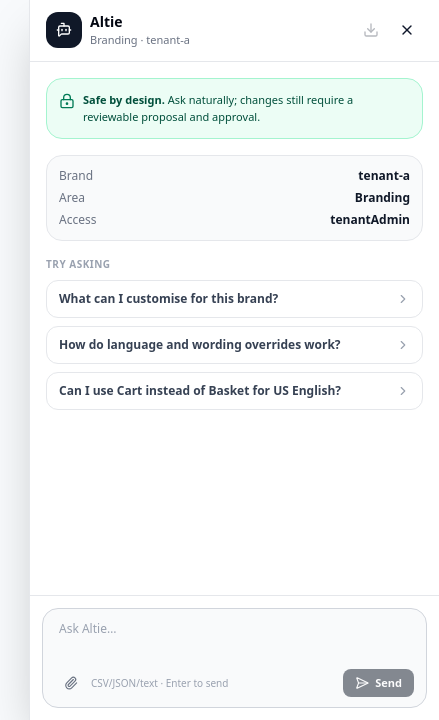
Test: AdminAssistantDrawer trusted proposal flow › rejects a ChangeSet response for a different tenant
This screenshot has width=439, height=720.
Click the button "What can I customise for this brand?" at (234,299), box [46, 280, 423, 318]
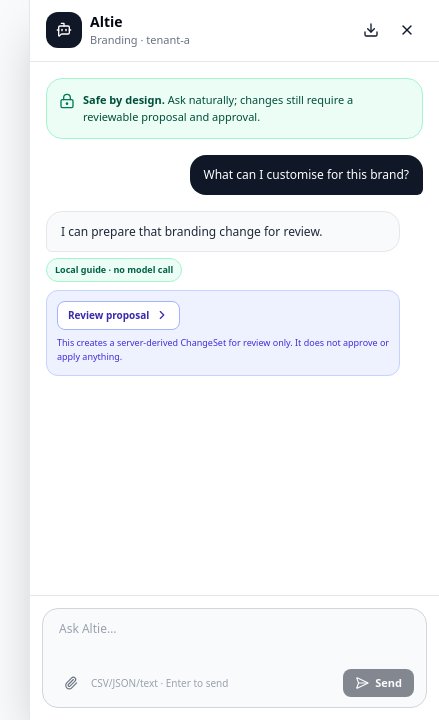
Result: the button "Review proposal" is shown
Click the button "Review proposal" at (119,315), box [57, 301, 180, 330]
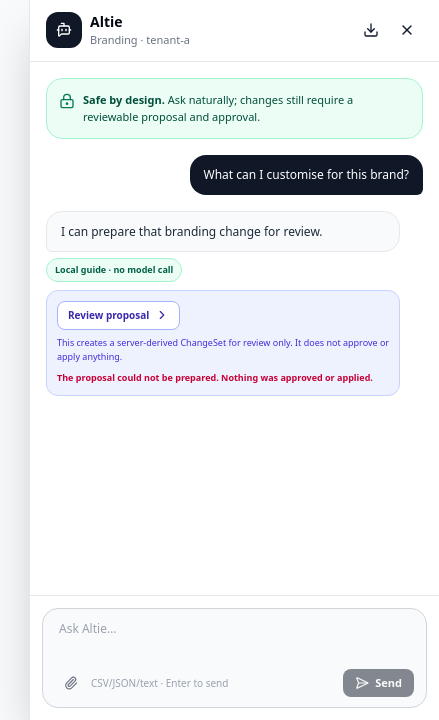
Result: the text "Nothing was approved or applied" is shown at [57, 371, 373, 384]
